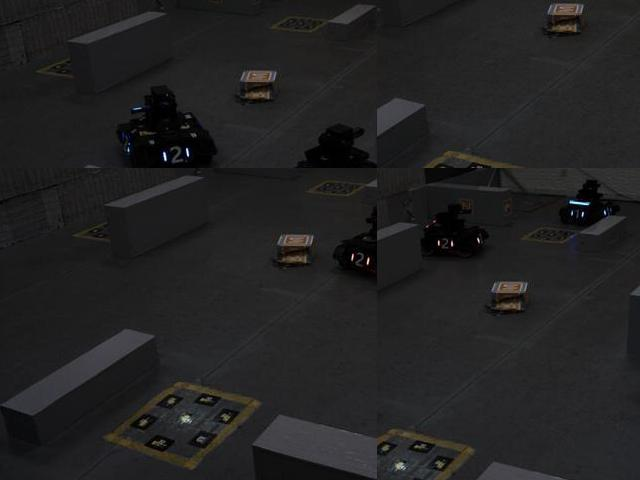armor: (155, 141, 193, 167), (346, 250, 374, 271), (435, 233, 456, 252), (566, 206, 586, 222)
